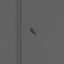dust: (29, 26, 38, 36)
